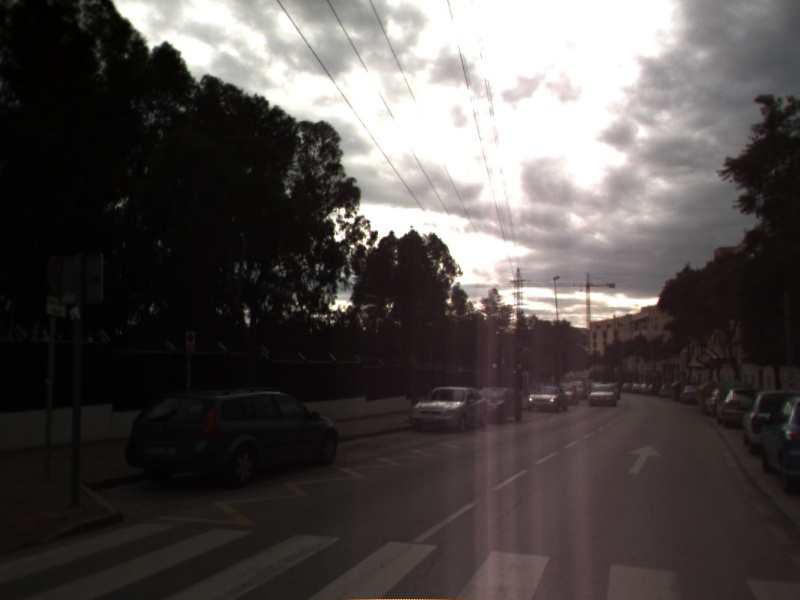STRAIGHT: (625, 443, 665, 476)
